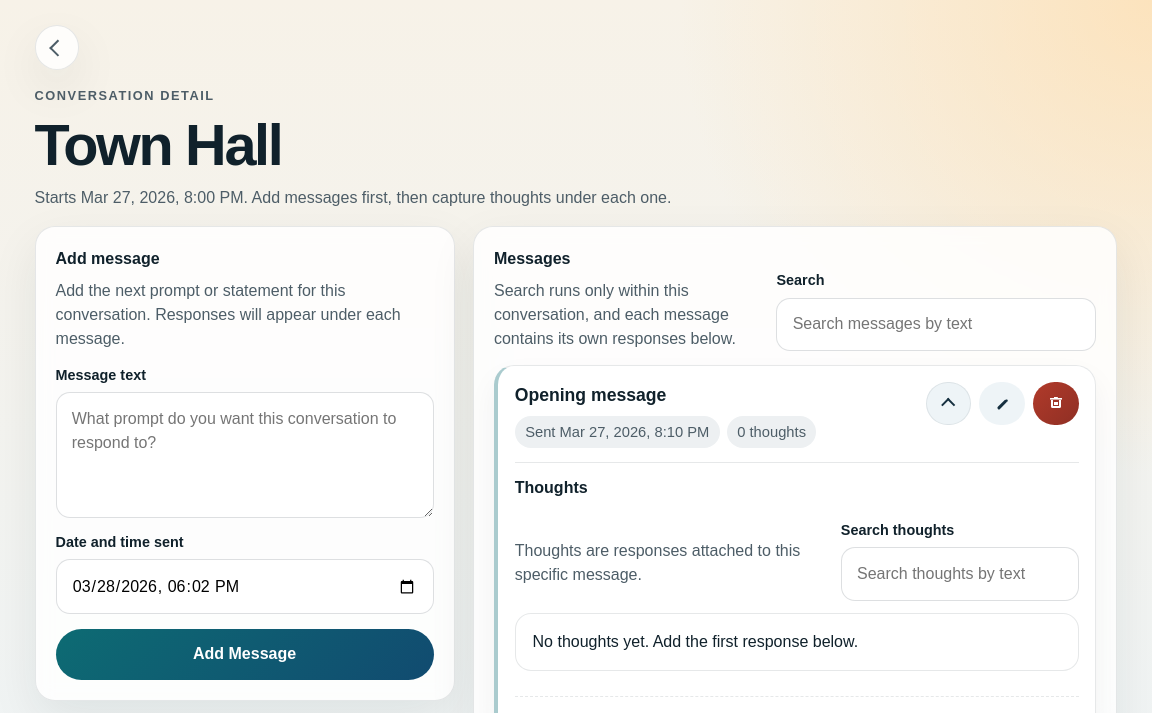
Test case: ConversationDetailPage › shows a message-search-specific empty state
Expected: the heading "Opening message" is shown, [515,385,666,405]
Type "missing" into the field labelled "Search". click: (936, 324)
box: [776,298,1096,351]
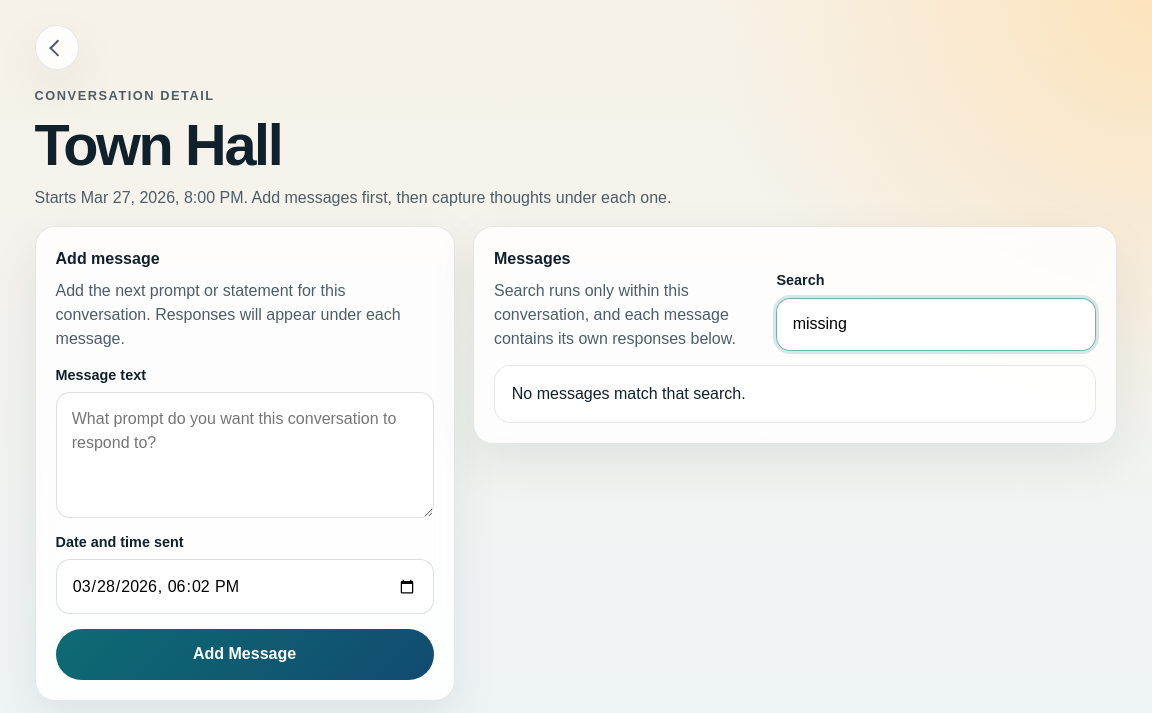
Result: the text "No messages match that search." is shown at [494,365,1096,423]
